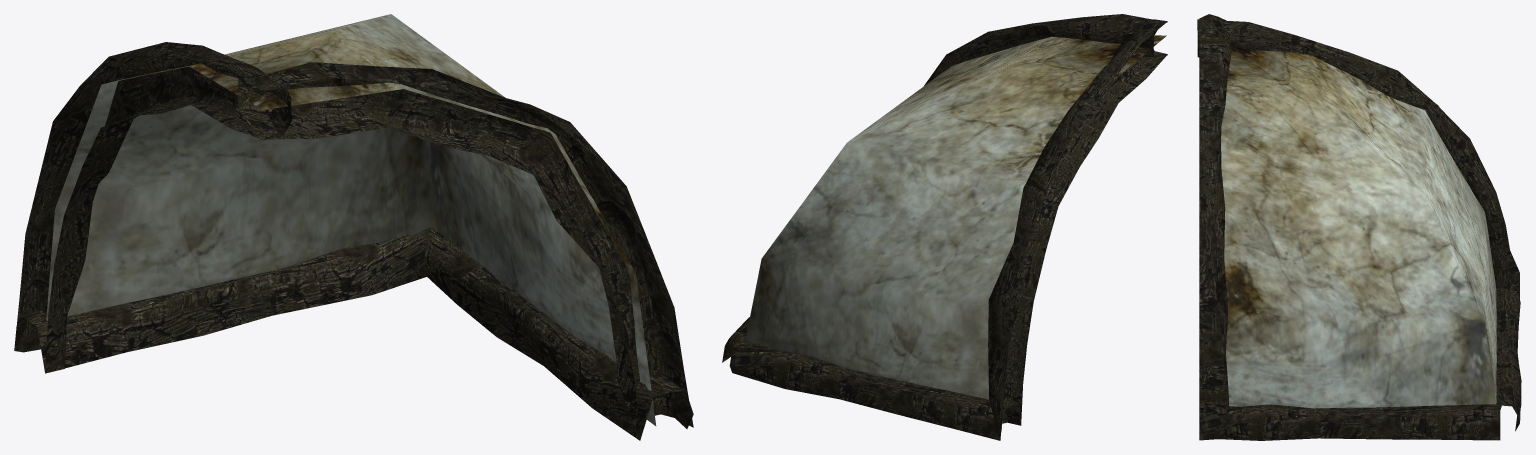
File: corner_concave.dae
3 views of the same model, side by side, from view 1: azimuth 30°, elevation 25°; view 2: azimuth 150°, elevation 25°; view 3: azimuth 270°, elevation 25° (orthographic). The views are drawn at different scales.
Parts seen in each view (by area): view 1: polySurface89, polySurface90; view 2: polySurface90, polySurface89; view 3: polySurface90, polySurface89.
Boxes of the visible parts, x1=… form: polySurface89: x1=14, y1=42, x2=693, y2=440; polySurface90: x1=46, y1=14, x2=656, y2=425; polySurface90: x1=745, y1=35, x2=1166, y2=430; polySurface89: x1=722, y1=14, x2=1167, y2=440; polySurface90: x1=1221, y1=46, x2=1496, y2=408; polySurface89: x1=1197, y1=14, x2=1521, y2=440.
Bounding box in the file's own units: 2.16 × 2.13 × 2.16.
